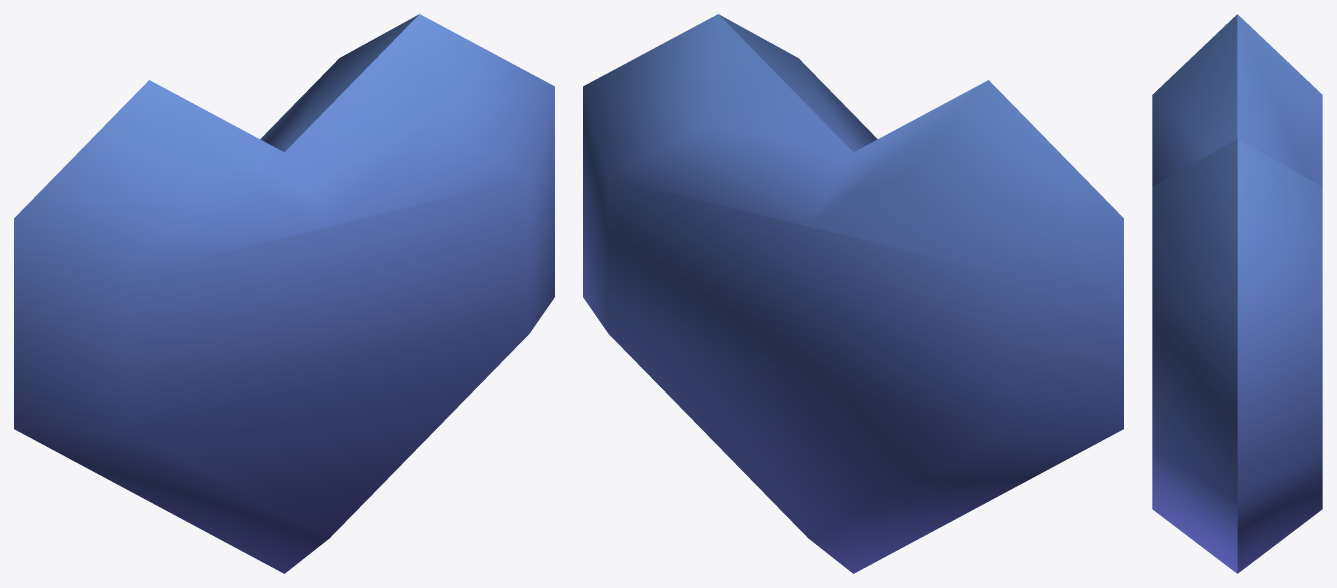
Rendered from health_100.glb.
The picture shows the model from 3 angles, left to right: view 1: azimuth 30°, elevation 25°; view 2: azimuth 150°, elevation 25°; view 3: azimuth 270°, elevation 25°; orthographic projection. The views are drawn at different scales.
Visible parts, largest first — view 1: health_100; view 2: health_100; view 3: health_100.
Boxes of the visible parts, box(x1,y1,x2,y2) form: health_100: box(14, 14, 554, 573); health_100: box(583, 14, 1123, 573); health_100: box(1152, 14, 1322, 573).
Size of the model in its own units: 0.6925 by 0.6449 by 0.1999.
Materials: 1 (1 with a texture image).
